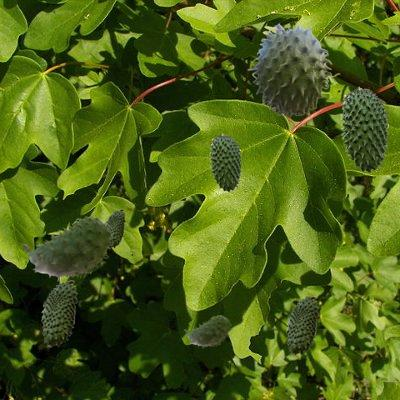guyabano: (247, 22, 339, 116), (22, 216, 112, 280), (340, 86, 388, 172), (41, 280, 76, 346), (209, 133, 241, 191), (286, 296, 317, 354), (184, 315, 230, 347), (105, 209, 124, 247)
